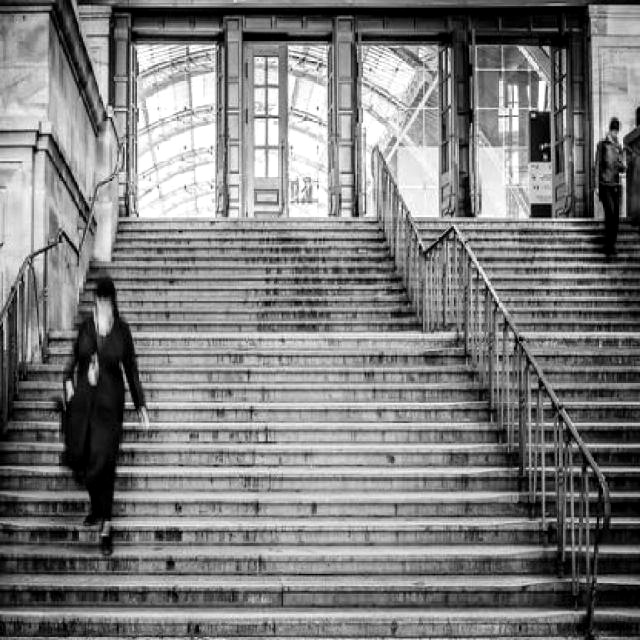stair: (60, 115, 400, 634), (454, 111, 621, 412)
